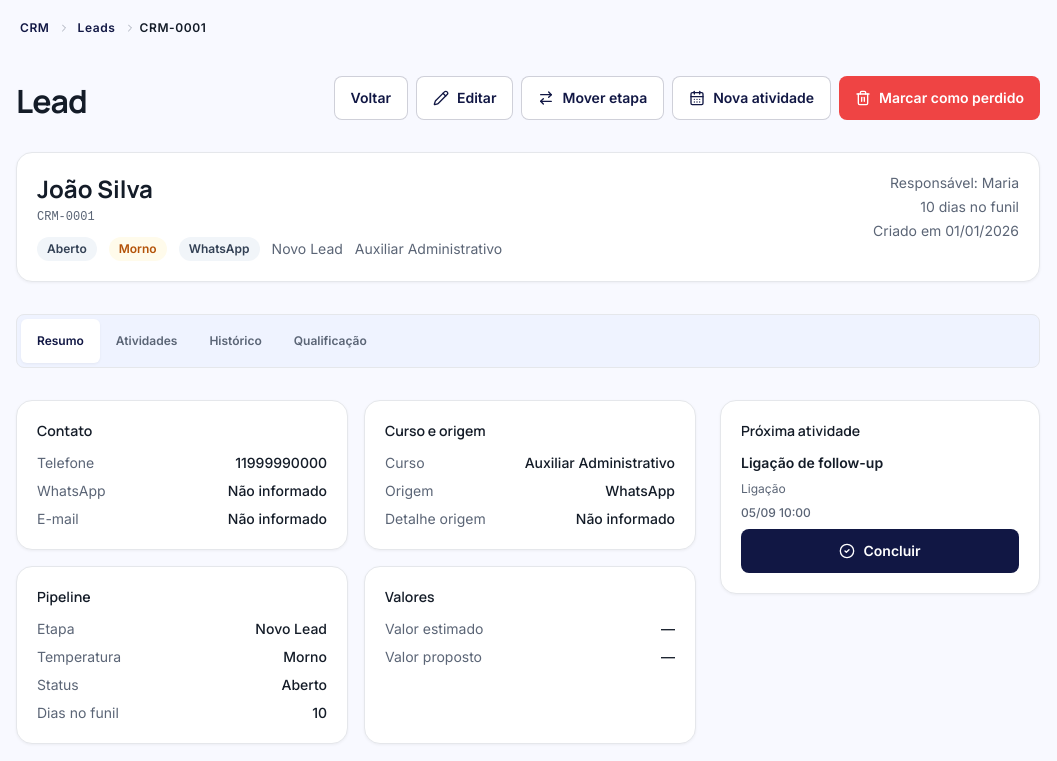
Test: LeadDetailsPage — HistoricoTab (timeline) › renders timeline events with correct labels
Click the tab "Histórico": (236, 341) x1=193 y1=319 x2=278 y2=363
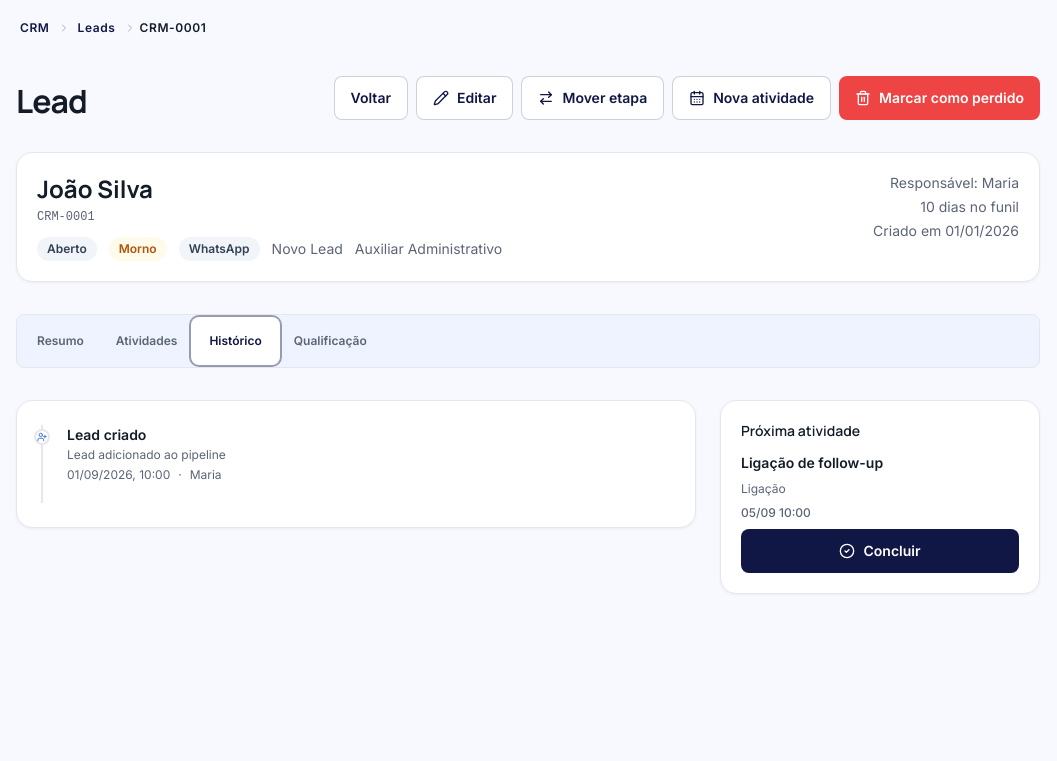
Check: the text "Lead criado" is shown, box x1=67 y1=425 x2=146 y2=445
Check: the text "Lead adicionado ao pipeline" is shown, box x1=67 y1=447 x2=226 y2=462
Check: the text "Maria" is shown, box x1=190 y1=467 x2=222 y2=483
